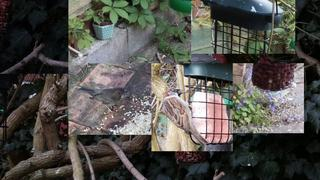blackbird: (78, 87, 127, 114)
sparrow: (162, 87, 209, 147)
